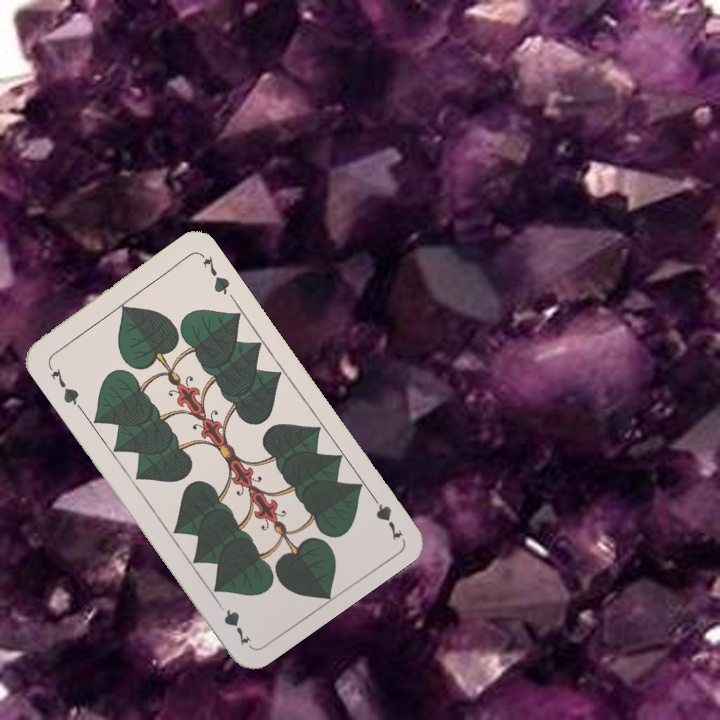G7: (365, 487, 405, 543), (44, 359, 84, 411)
